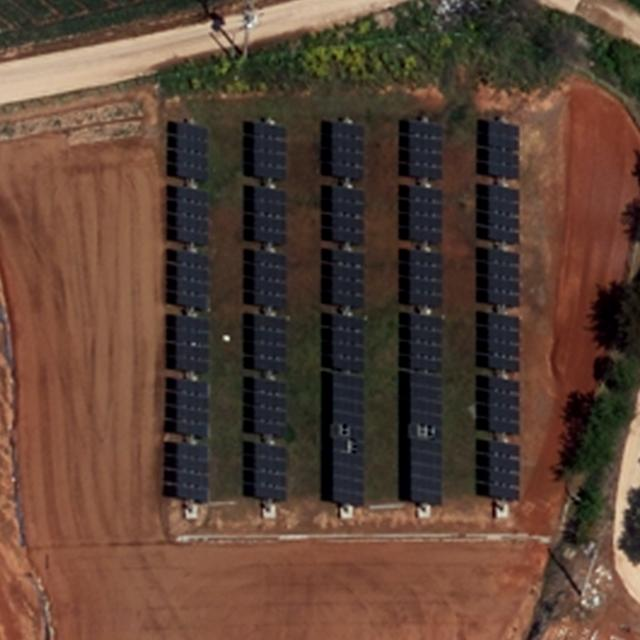panel: (331, 373, 365, 507), (249, 117, 291, 182), (170, 118, 213, 181), (402, 117, 446, 178), (327, 116, 367, 182), (482, 117, 522, 181), (404, 182, 445, 244), (405, 246, 445, 308), (407, 438, 444, 505), (173, 184, 211, 248), (327, 184, 367, 244), (250, 185, 290, 244), (330, 310, 367, 373), (484, 183, 521, 244), (173, 249, 210, 310), (251, 248, 289, 307), (173, 315, 209, 377), (251, 314, 290, 371), (484, 248, 522, 306), (408, 312, 444, 373), (487, 317, 523, 377), (174, 377, 209, 438), (408, 371, 446, 427), (331, 248, 367, 307), (254, 378, 290, 437), (250, 442, 287, 499), (487, 439, 520, 500), (176, 443, 210, 502), (488, 378, 522, 434)
